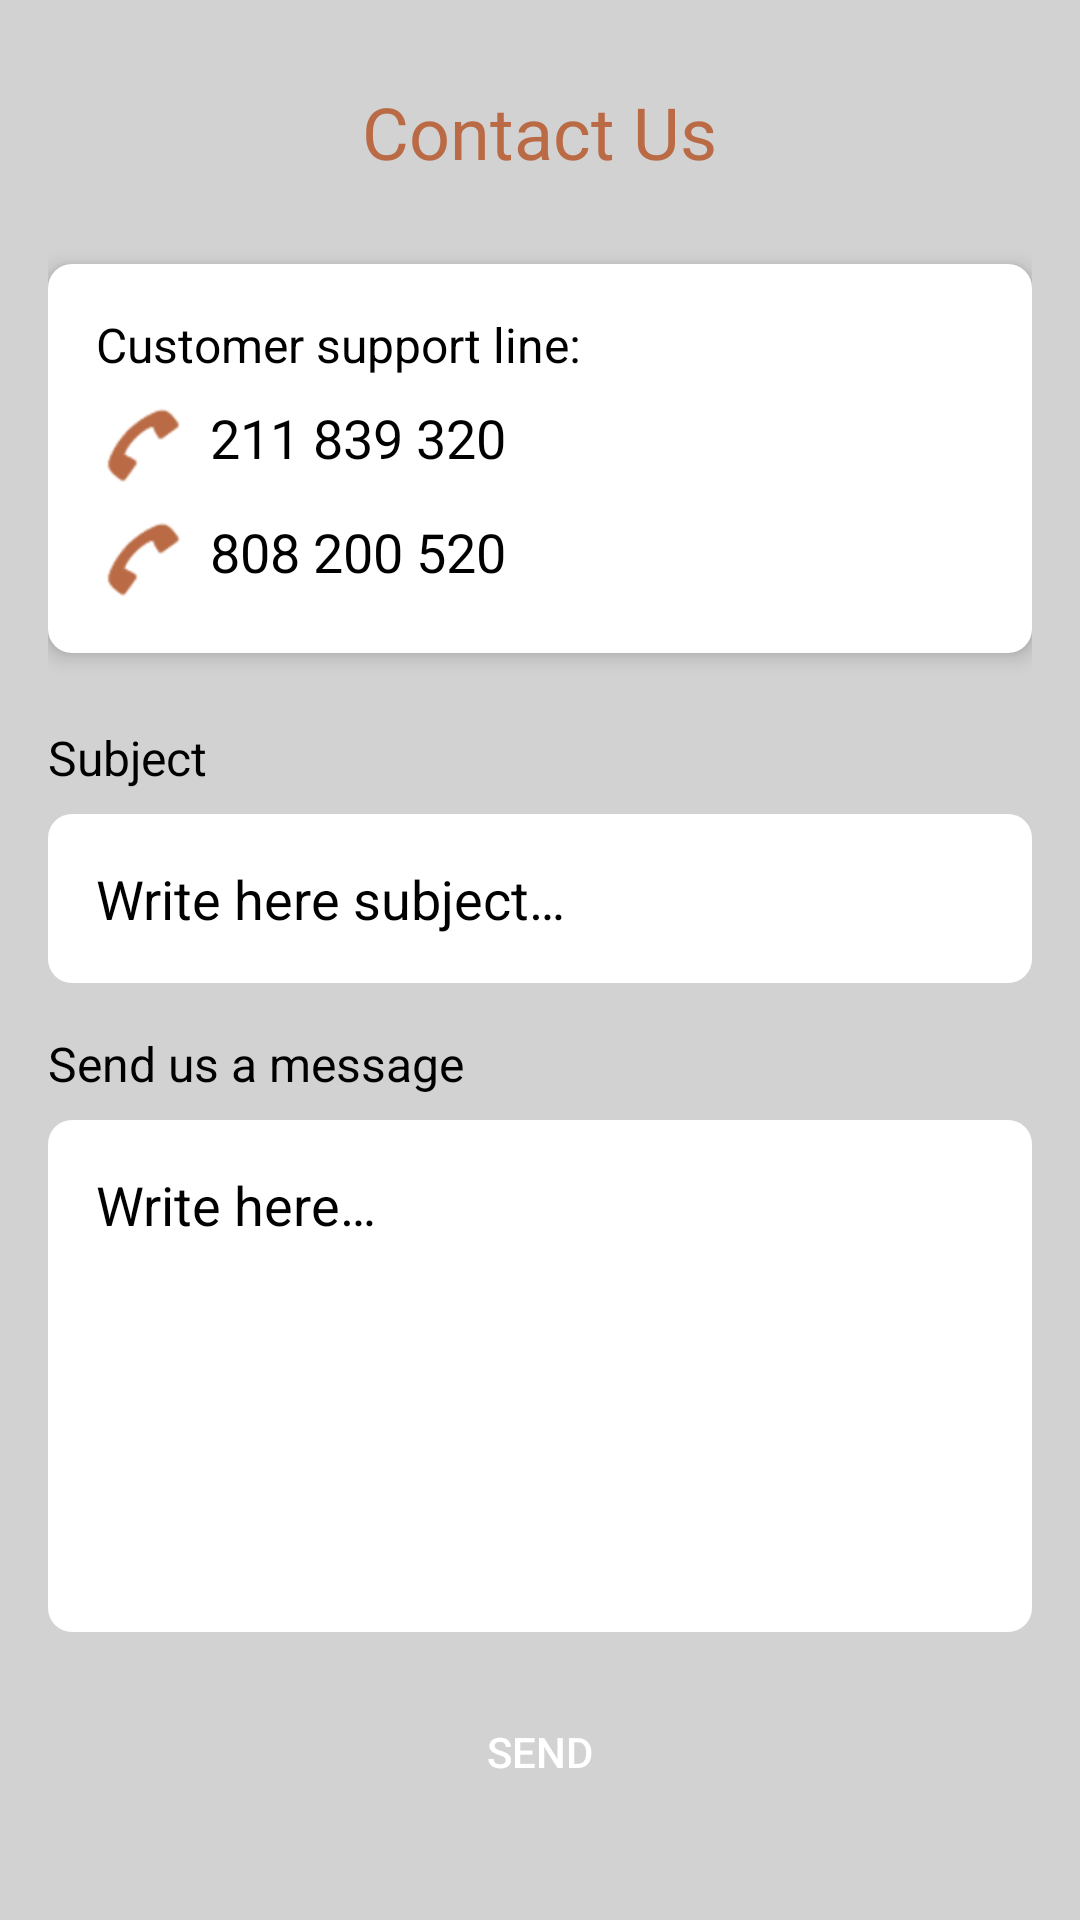

Icons on this 1080x1920 Android screen, each with its box as rect(x1, y1, x2, y2):
sym action call: rect(107, 409, 179, 482), rect(107, 523, 179, 596)
